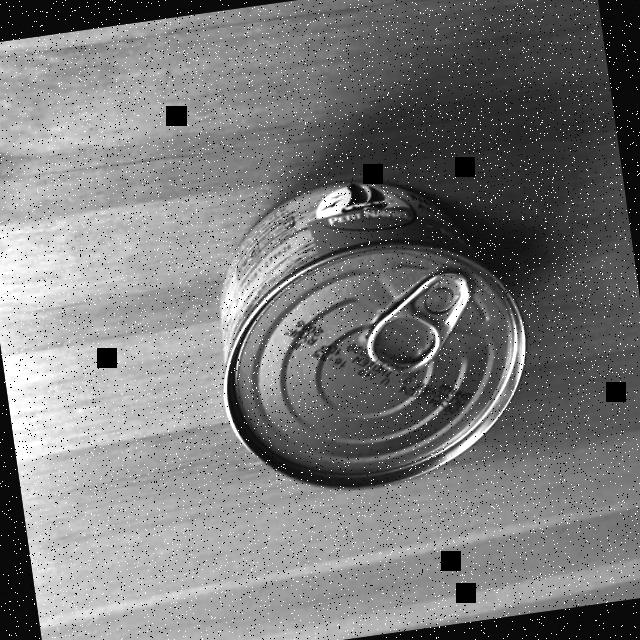can: (196, 158, 545, 510)
